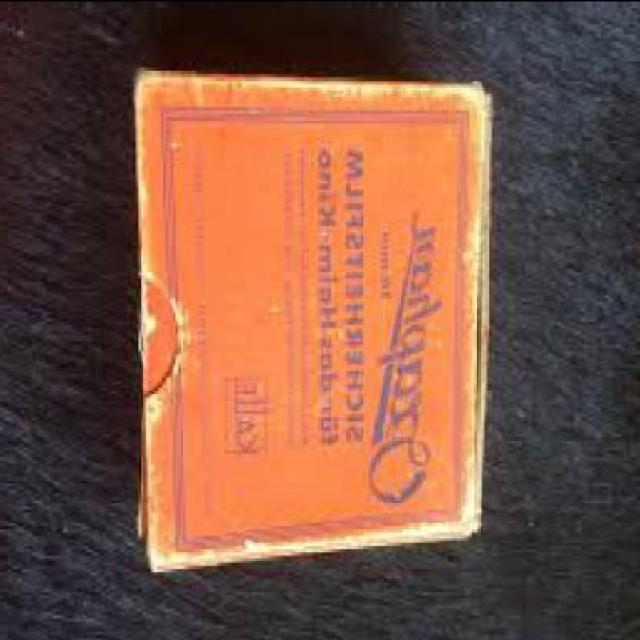CARDBOARD: (136, 72, 495, 577)
